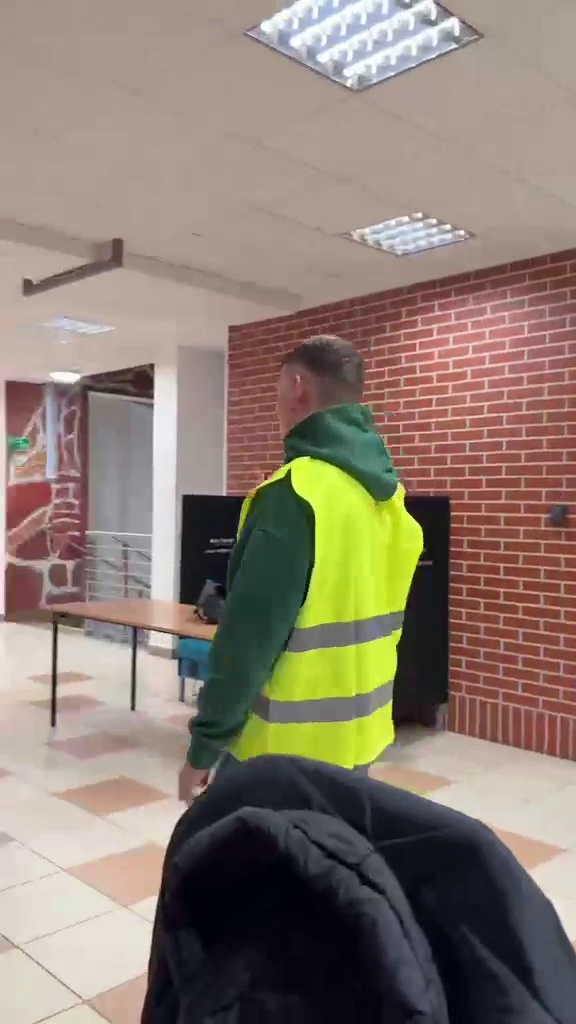vest: (178, 317, 414, 777)
